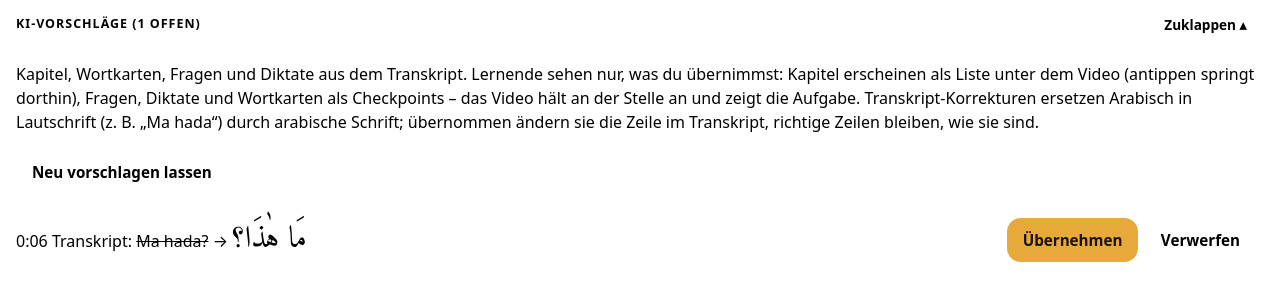
Scenario: Recording suggestions › shows a transcript correction and explains when its line changed meanwhile
This screenshot has width=1271, height=283.
expect the text "Ma hada?" is shown: met, box [136,230,208,252]
expect the text "مَا هٰذَا؟" is shown: met, box [232,213,307,266]
Click the button with aria-label "Übernehmen (0:06)". click: (1073, 240)
box: [1007,218,1138,262]
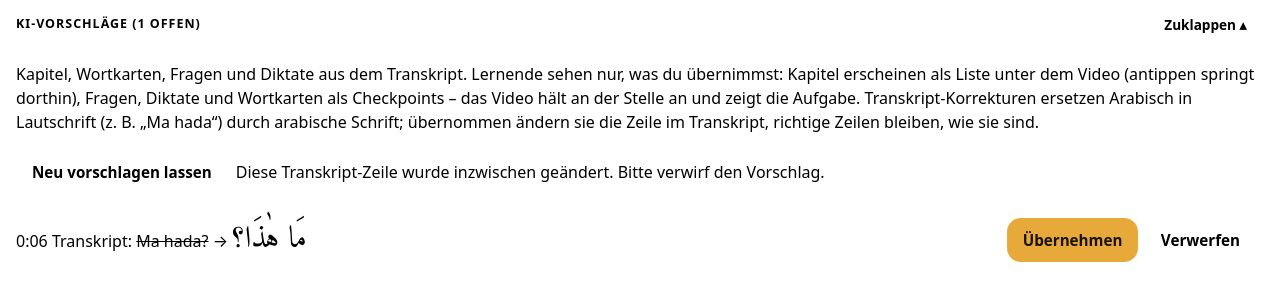
expect the text "Ma hada?" is shown: met, box [136,230,208,252]
expect the text "wurde inzwischen geändert" is shown: met, box [236,161,825,183]
